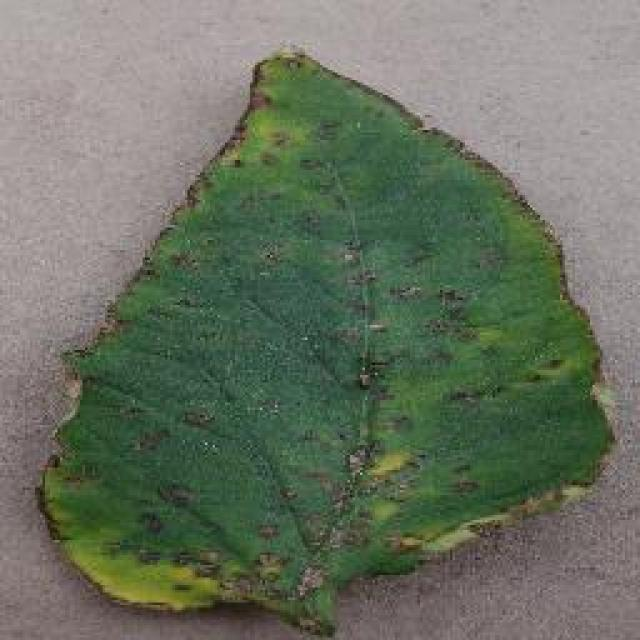bacterial spot: (36, 53, 617, 629)
